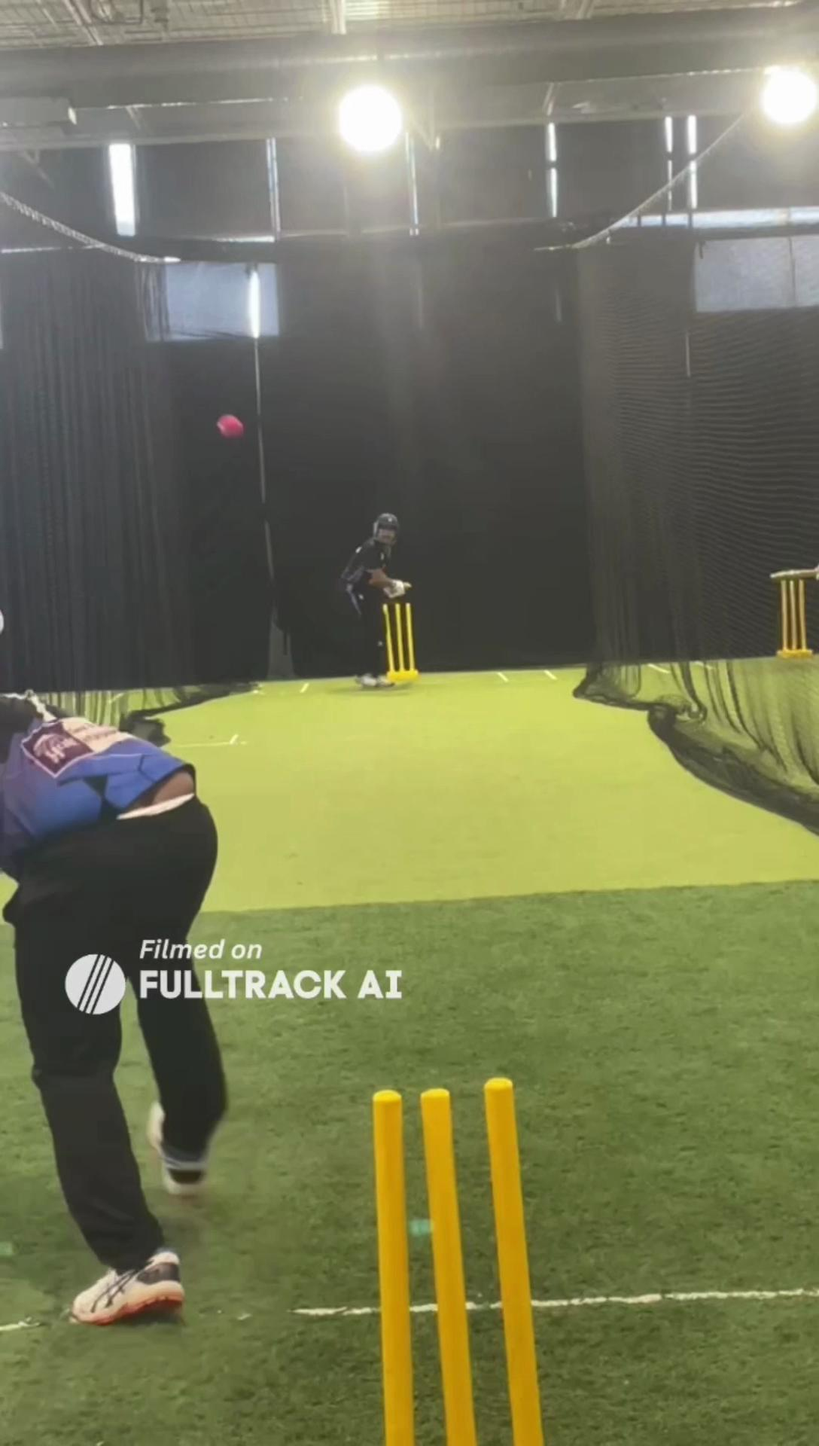ball: (214, 408, 245, 444)
